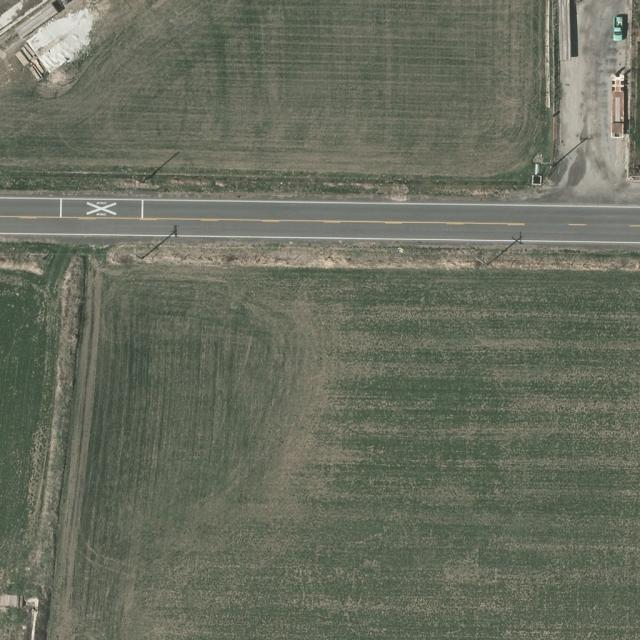vehicle: (614, 16, 624, 42)
